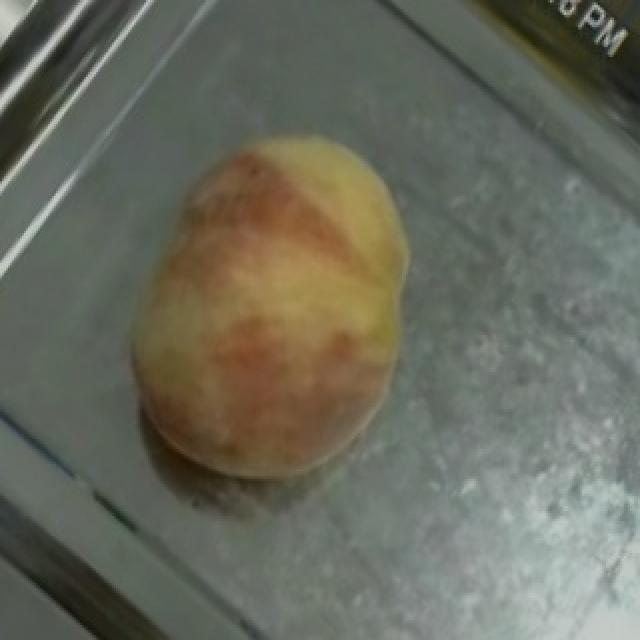Fruit: (102, 86, 462, 494)
